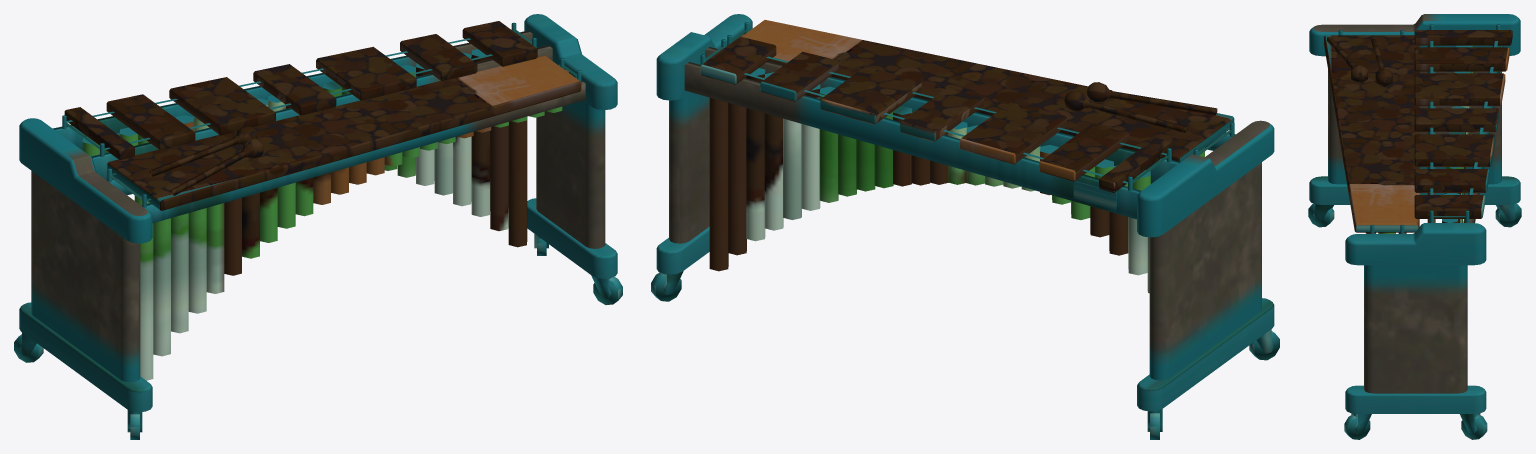
Rendered from marimba.fbx.
The picture shows the model from 3 angles, left to right: view 1: azimuth 30°, elevation 25°; view 2: azimuth 150°, elevation 25°; view 3: azimuth 270°, elevation 25°; orthographic projection. The views are drawn at different scales.
Parts seen in each view (by area): view 1: Marimba; view 2: Marimba; view 3: Marimba.
Part boxes in pixels (box(x1,y1,x2,y2)): Marimba: box(14, 14, 622, 439); Marimba: box(651, 14, 1279, 439); Marimba: box(1308, 14, 1521, 439).
Bounding box in the file's own units: 593 × 276 × 242.
